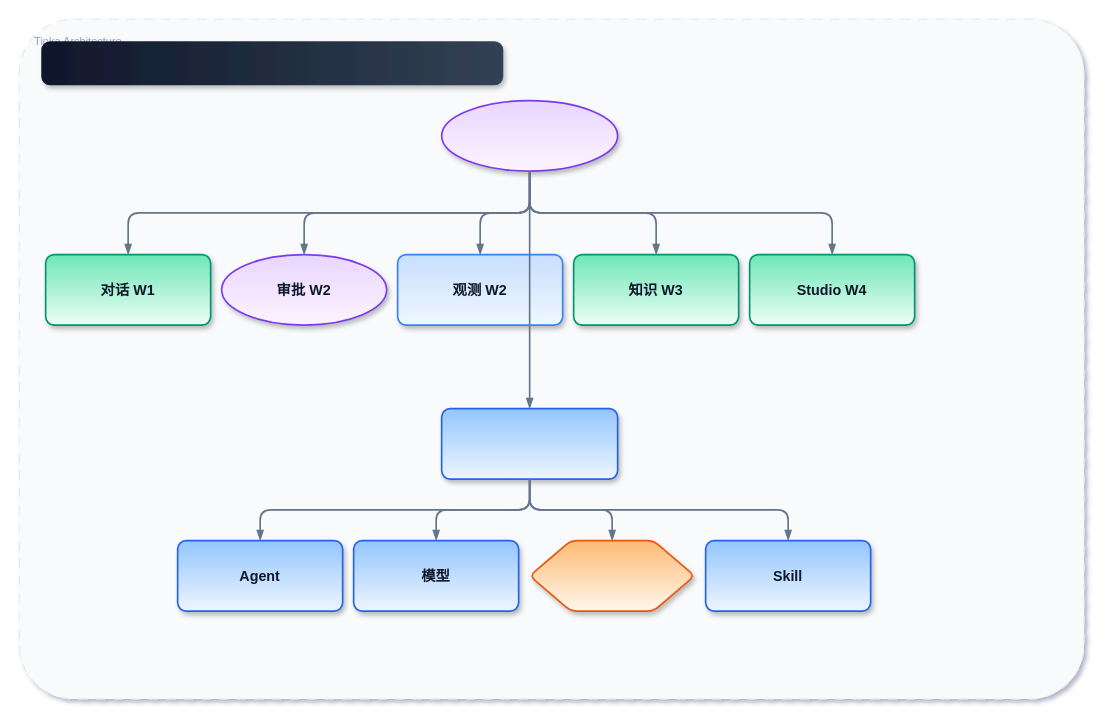
This 1110x725 diagram has some shape labels left out. Here are the shapes that lost their labels. From the top down, the centre of each, then its label:
At (272,64): "前端信息架构".
At (530,137): "tioka-ui 壳".
At (530,445): "配置台".
At (613,577): "MCP".
